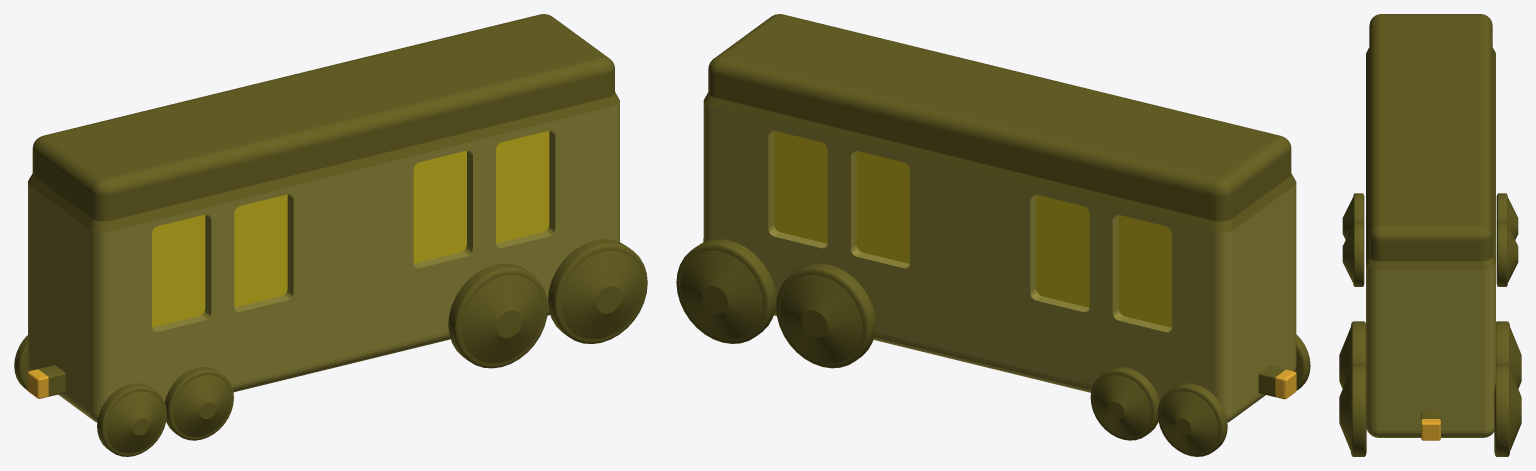
The model's file is wagons_guitare.glb.
3 views of the same model, side by side, from view 1: azimuth 30°, elevation 25°; view 2: azimuth 150°, elevation 25°; view 3: azimuth 270°, elevation 25° (orthographic). The views are drawn at different scales.
Visible parts, largest first — view 1: long_wagon, volets, medium_wheel_2.003, medium_wheel_2.004, small_wheel_2.005, small_wheel_2.006, bitonio1; view 2: long_wagon, volets, medium_wheel_2.002, medium_wheel_2.001, small_wheel_2.004, small_wheel_2.003, bitonio1; view 3: long_wagon, medium_wheel_2.004, medium_wheel_2.001, small_wheel_2.003, small_wheel_2.006, medium_wheel_2.003, medium_wheel_2.002, small_wheel_2.004, small_wheel_2.005, bitonio2.
Part boxes in pixels (x1,y1,x2,y2): long_wagon: [28, 14, 619, 422]; volets: [152, 130, 549, 327]; medium_wheel_2.003: [448, 263, 547, 368]; medium_wheel_2.004: [548, 239, 647, 343]; small_wheel_2.005: [97, 383, 166, 456]; small_wheel_2.006: [165, 367, 233, 440]; bitonio1: [27, 365, 65, 398]; long_wagon: [703, 14, 1296, 422]; volets: [774, 131, 1171, 327]; medium_wheel_2.002: [776, 263, 875, 368]; medium_wheel_2.001: [676, 239, 776, 343]; small_wheel_2.004: [1157, 383, 1227, 456]; small_wheel_2.003: [1090, 367, 1159, 440]; bitonio1: [1258, 365, 1296, 399]; long_wagon: [1366, 14, 1495, 437]; medium_wheel_2.004: [1339, 363, 1366, 456]; medium_wheel_2.001: [1494, 363, 1521, 456]; small_wheel_2.003: [1496, 221, 1518, 286]; small_wheel_2.006: [1342, 221, 1364, 286]; medium_wheel_2.003: [1339, 321, 1365, 388]; medium_wheel_2.002: [1496, 321, 1521, 388]; small_wheel_2.004: [1496, 193, 1518, 239]; small_wheel_2.005: [1342, 193, 1364, 239]; bitonio2: [1421, 412, 1440, 440].
Bounding box in the file's own units: 85.18 × 37.72 × 26.64.
